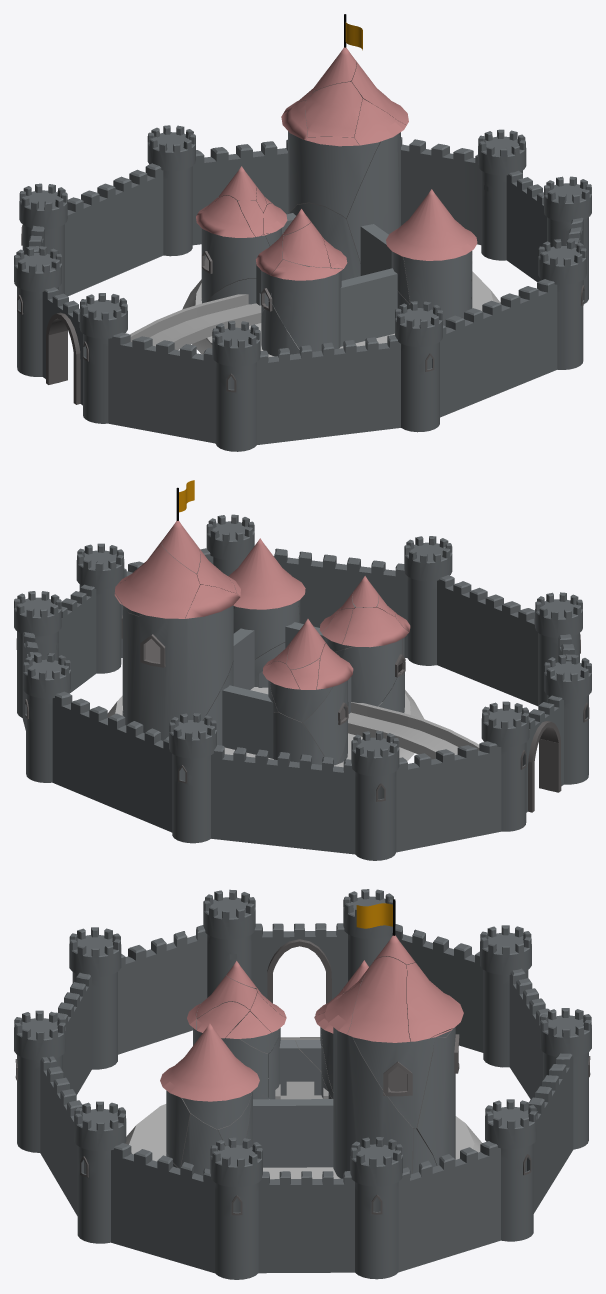
Rendered from Castle_1.fbx.
3 views of the same model, one above another, from view 1: azimuth 30°, elevation 25°; view 2: azimuth 150°, elevation 25°; view 3: azimuth 270°, elevation 25° (orthographic). The views are drawn at different scales.
Visible parts, largest first — view 1: Castle, Castle.001_cell.002, Castle.003_cell.004, Castle.001_cell.006, Castle.020, way, Castle.004_cell.001, Castle.003_cell.005, Castle.006_cell.001, Castle.006, Castle.021_cell.003, Castle.001_cell (+14 smaller); view 2: Castle, Castle.001_cell.002, Castle.021_cell.008, way, Castle.006, Castle.020, Castle.003_cell, Castle.003_cell.005, Castle.004_cell.006, Castle.019_cell.003, Castle.003_cell.008, Castle.003_cell.002 (+14 smaller); view 3: Castle, Castle.001_cell.006, Castle.006_cell, Castle.020, Castle.021_cell, Castle.001_cell.008, Castle.001_cell.002, Castle.021_cell.008, Castle.024, Castle.003_cell, Castle.006, Castle.004_cell.002 (+15 smaller).
Boxes of the visible parts, x1,y1,x2,y2 form: Castle: (14, 125, 591, 451); Castle.001_cell.002: (288, 131, 380, 219); Castle.003_cell.004: (270, 270, 341, 351); Castle.001_cell.006: (346, 133, 400, 262); Castle.020: (386, 189, 477, 260); way: (130, 294, 279, 349); Castle.004_cell.001: (403, 251, 472, 320); Castle.003_cell.005: (201, 228, 269, 303); Castle.006_cell.001: (341, 268, 397, 346); Castle.006: (282, 213, 397, 337); Castle.021_cell.003: (305, 82, 362, 137); Castle.001_cell: (290, 203, 360, 280); Castle: (14, 514, 591, 860); Castle.001_cell.002: (122, 605, 233, 740); Castle.021_cell.008: (114, 545, 199, 618); way: (348, 702, 479, 759); Castle.006: (222, 628, 325, 758); Castle.020: (228, 538, 305, 609); Castle.003_cell: (335, 639, 405, 763); Castle.003_cell.005: (302, 680, 348, 765); Castle.004_cell.006: (233, 601, 299, 659); Castle.019_cell.003: (342, 607, 408, 647); Castle.003_cell.008: (273, 712, 324, 764); Castle.003_cell.002: (270, 681, 332, 722); Castle: (14, 889, 591, 1279); Castle.001_cell.006: (333, 1027, 413, 1178); Castle.006_cell: (253, 1099, 333, 1167); Castle.020: (160, 1023, 259, 1101); Castle.021_cell: (347, 956, 410, 1042); Castle.001_cell.008: (352, 1037, 434, 1128); Castle.001_cell.002: (333, 1027, 459, 1165); Castle.021_cell.008: (406, 963, 463, 1041); Castle.024: (125, 1104, 481, 1179); Castle.003_cell: (268, 1028, 331, 1099); Castle.006: (253, 1099, 333, 1164); Castle.004_cell.002: (181, 1114, 224, 1175).
Bounding box in the file's own units: 24.09 × 12.08 × 21.73.
